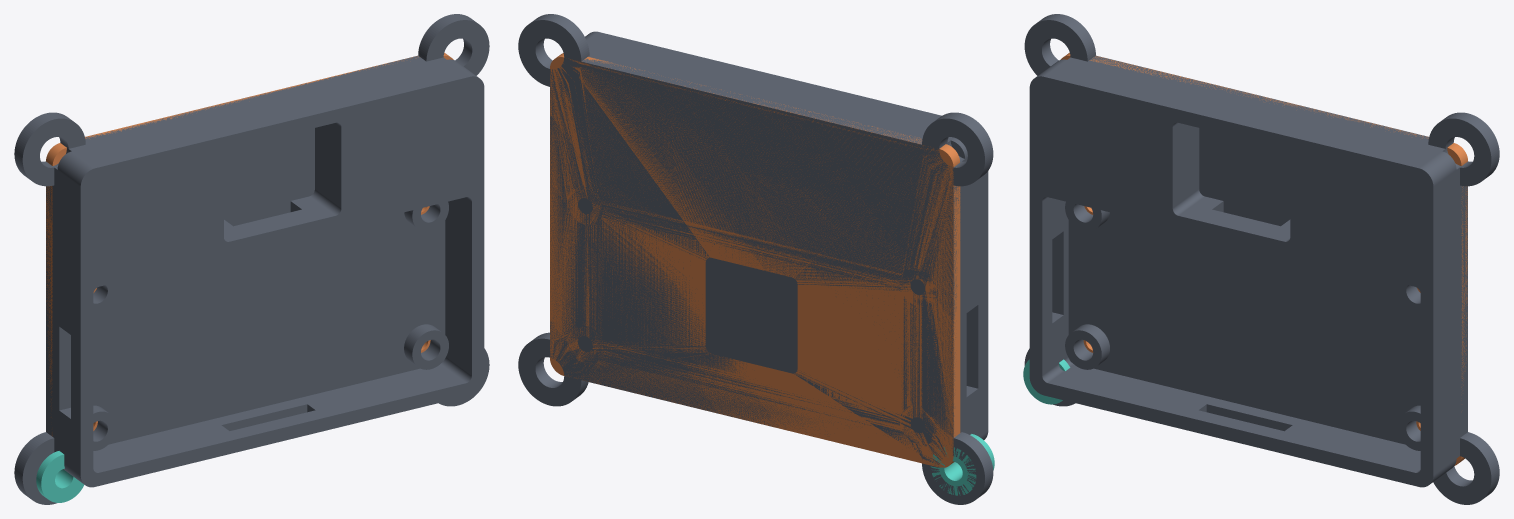
Rendered from pi-zero-2w-cradle.glb.
3 views of the same model, side by side, from view 1: azimuth 30°, elevation 25°; view 2: azimuth 150°, elevation 25°; view 3: azimuth 330°, elevation 25° (orthographic).
Parts seen in each view (by area): view 1: solid_000, solid_001, solid_002; view 2: solid_000, solid_001, solid_002; view 3: solid_000, solid_001.
Boxes of the visible parts, box(x1,y1,x2,y2) form: solid_000: box(14, 14, 489, 504); solid_001: box(46, 52, 453, 435); solid_002: box(36, 451, 83, 502); solid_000: box(518, 14, 993, 504); solid_001: box(550, 53, 960, 467); solid_002: box(930, 434, 994, 495); solid_000: box(1024, 14, 1499, 504); solid_001: box(1060, 52, 1467, 465).
Bounding box in the file's own units: 81.4 × 64.1 × 10.5.
